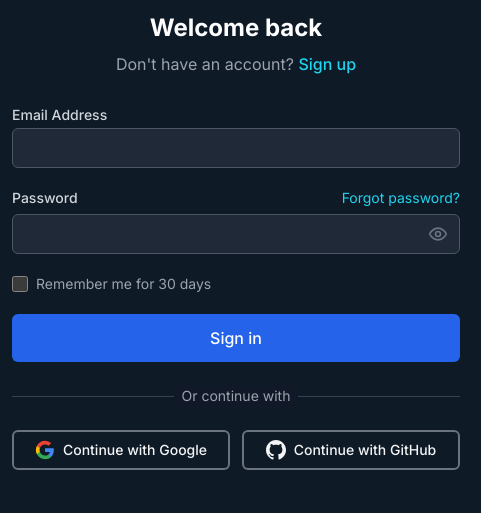
Test case: LoginPage › validates email format
Type "test@test" into the field labelled "Email Address" at (236, 148), box top-left (12, 128), bottom-right (460, 168)
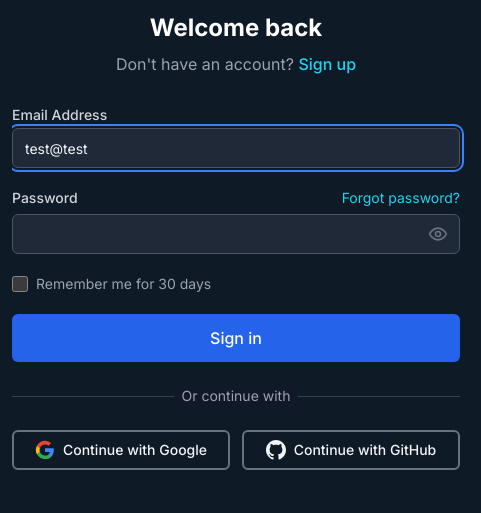
Type "somepassword" into the password field labelled "Password" at (236, 234), box top-left (12, 214), bottom-right (460, 254)
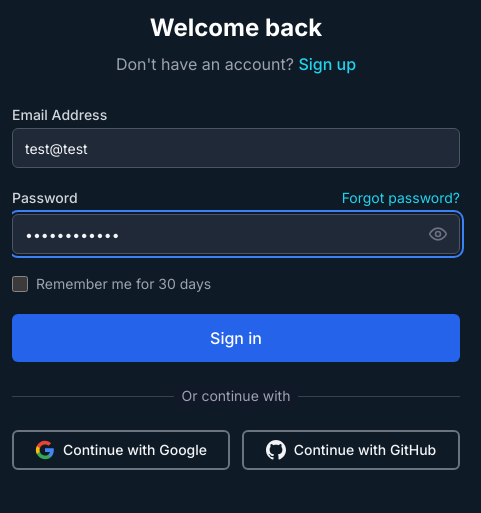
// Submit the form - if validation message doesn't appear, check the form renders without error
Click the button "Sign in" at (236, 338), box top-left (12, 314), bottom-right (460, 362)
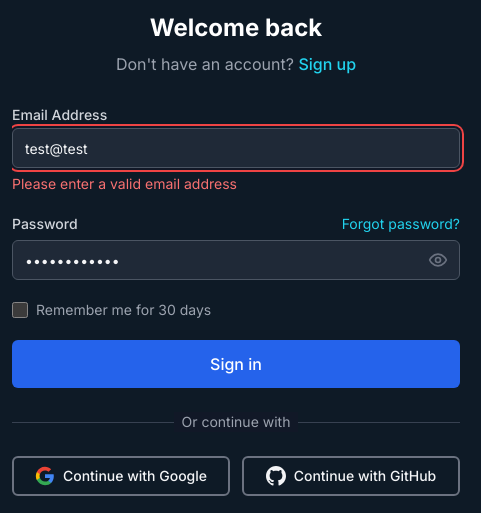
Now the text "Please enter a valid email address" is shown, box top-left (12, 175), bottom-right (237, 192)
